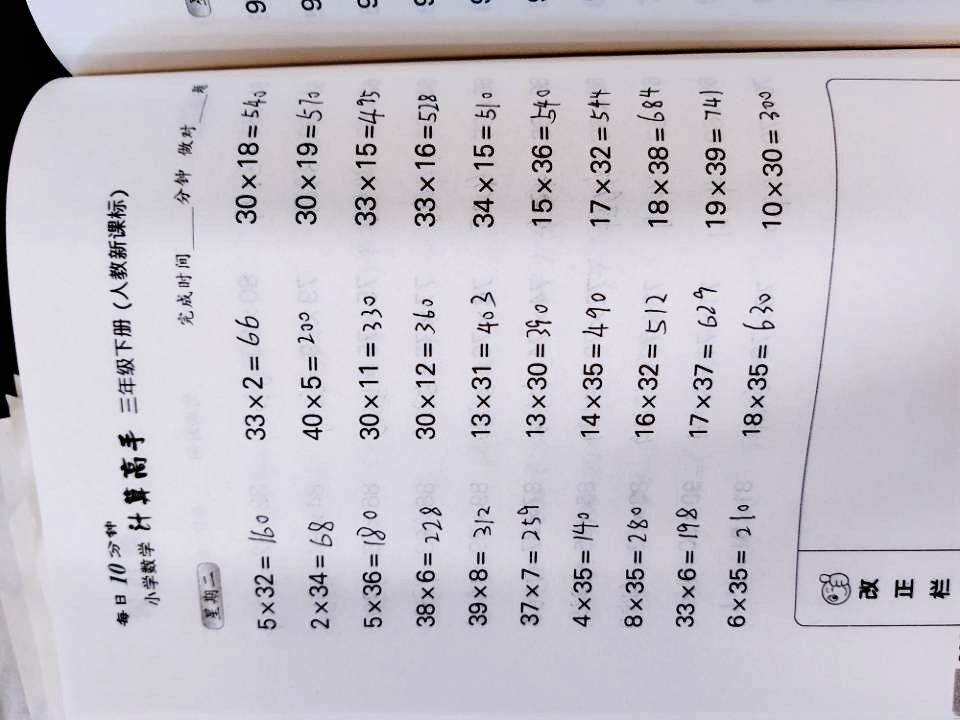equation: (610, 274, 688, 451), (453, 264, 519, 448), (514, 69, 583, 241), (624, 77, 692, 241), (734, 269, 790, 461), (573, 77, 630, 252), (343, 271, 398, 451), (217, 80, 282, 232), (745, 80, 802, 249), (283, 82, 342, 238), (398, 288, 455, 448), (682, 271, 734, 446), (221, 306, 285, 448), (463, 81, 518, 246), (708, 487, 766, 640), (390, 493, 451, 638), (450, 487, 507, 640), (500, 490, 556, 644), (344, 80, 397, 240), (573, 274, 620, 453), (606, 498, 664, 642), (286, 306, 345, 445), (512, 289, 565, 443), (554, 493, 608, 644), (402, 84, 453, 242), (691, 74, 740, 238), (343, 498, 397, 638), (237, 511, 296, 637), (292, 504, 345, 638), (662, 498, 709, 635)
